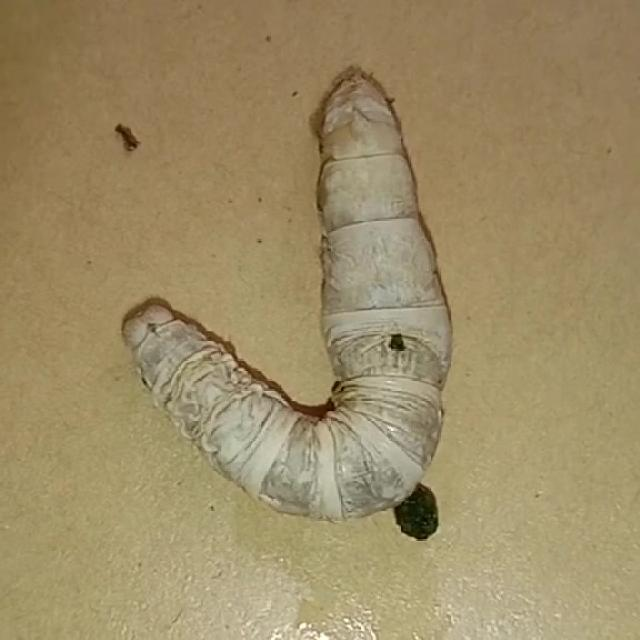Grasserie: (100, 38, 515, 561)
